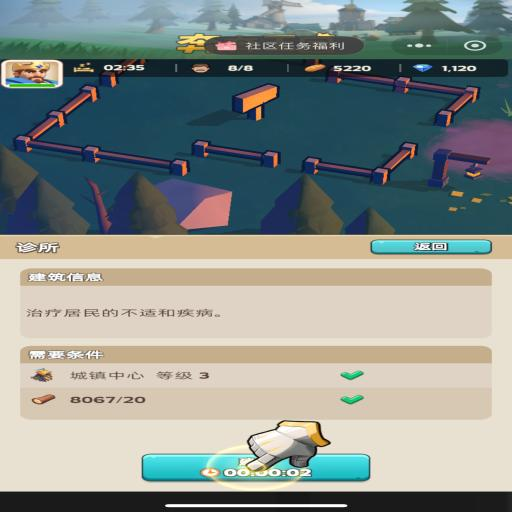newcomer_hand: (244, 420, 330, 470)
